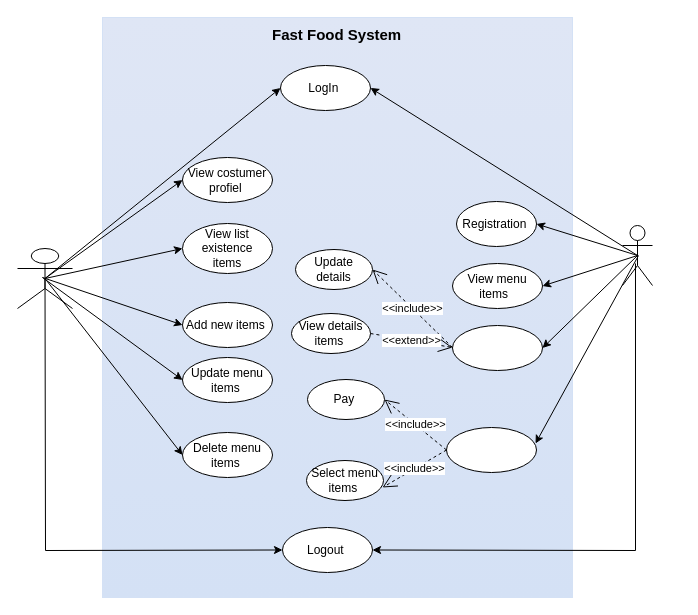
Image size: 698x615. Some labels were removed from this diagram. Here are the shapes that lost their labels. From the top down, the centre of each, then its label:
At point 637,255: "User/ Costumer".
At point 44,278: "Admin".
At point 497,347: "Display details checking".
At point 491,449: "Order items".
